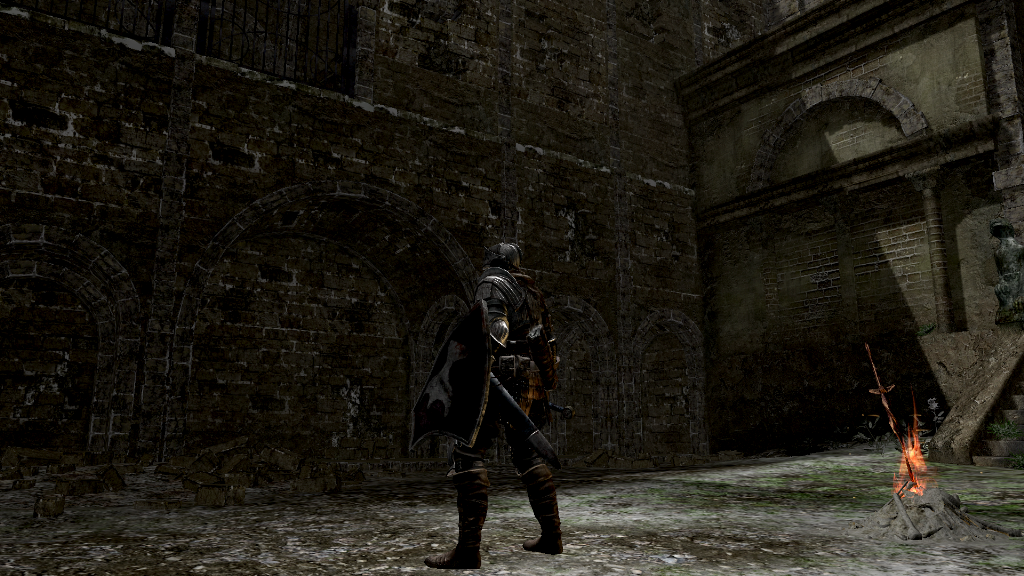bonfire: (862, 338, 967, 521)
player: (407, 241, 578, 567)
